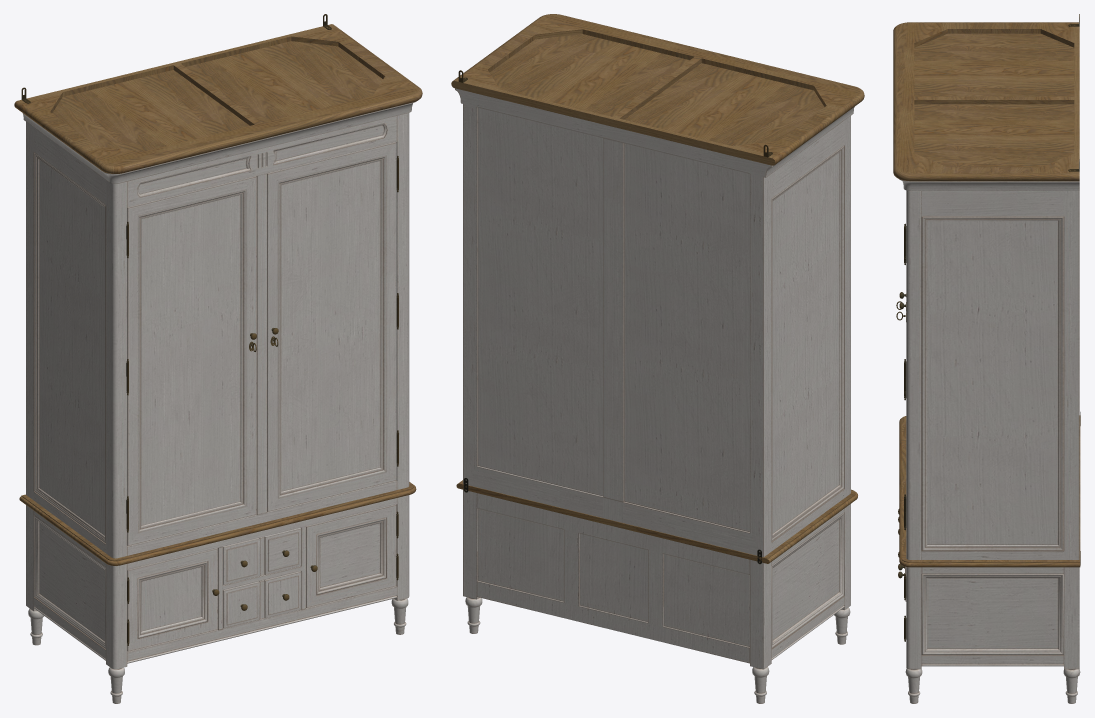
3 renders of one model, left to right at view 1: azimuth 30°, elevation 25°; view 2: azimuth 150°, elevation 25°; view 3: azimuth 270°, elevation 25°, orthographic. The views are drawn at different scales.
Visible parts, largest first — view 1: obj_y7aa00_244e00; view 2: obj_y7aa00_244e00; view 3: obj_y7aa00_244e00.
Part boxes in pixels (left/top/right/bottom): obj_y7aa00_244e00: left=14, top=14, right=422, bottom=703; obj_y7aa00_244e00: left=451, top=14, right=864, bottom=703; obj_y7aa00_244e00: left=893, top=14, right=1080, bottom=703.
Size of the model in its own units: 0.6029 by 1 by 0.3105.
Materials: 4 (4 with a texture image).
